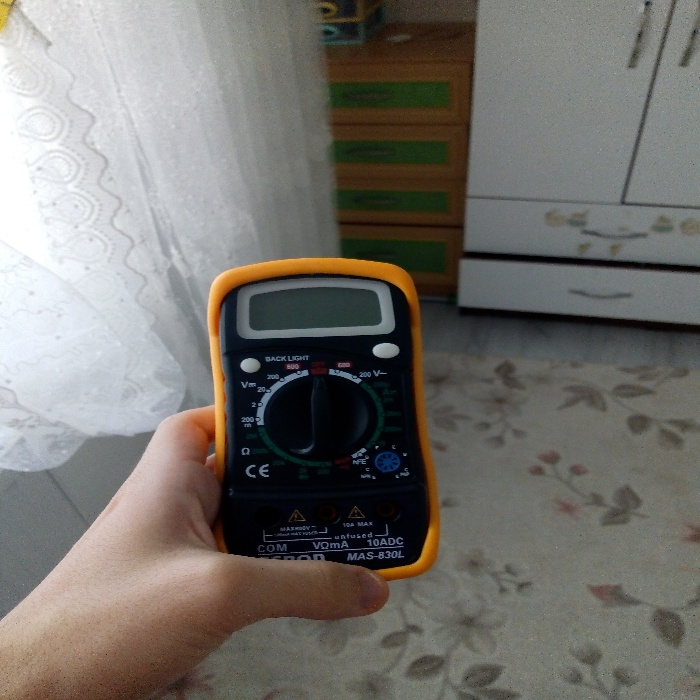multimetre: (186, 225, 446, 587)
